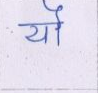ai_matra: (43, 0, 66, 22)
